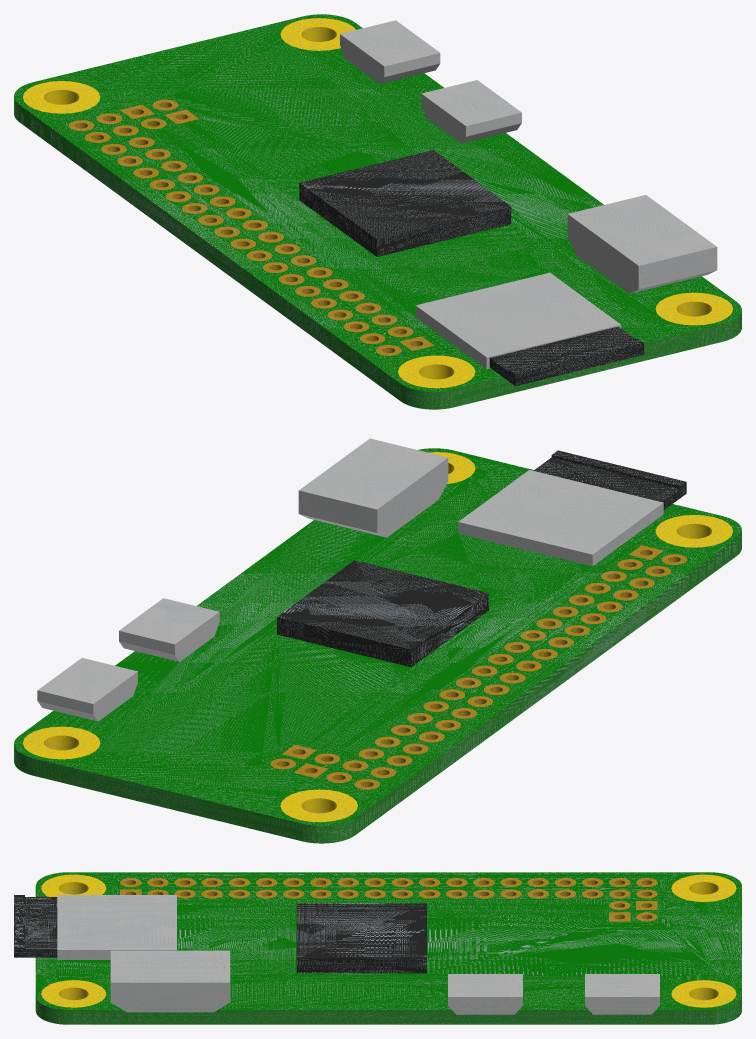
3 views of the same model, one above another, from view 1: azimuth 30°, elevation 25°; view 2: azimuth 150°, elevation 25°; view 3: azimuth 270°, elevation 25° (orthographic). The views are drawn at different scales.
Visible parts, largest first — view 1: SketchUp (×11), Micro_USB (×2); view 2: SketchUp (×11), Micro_USB (×2); view 3: SketchUp (×15), Micro_USB (×2).
Part boxes in pixels (x1,y1,x2,y2): SketchUp (×11): (14, 14, 741, 409); Micro_USB (×2): (340, 20, 521, 143); SketchUp (×11): (14, 438, 741, 843); Micro_USB (×2): (37, 598, 219, 721); SketchUp (×15): (14, 872, 741, 1024); Micro_USB (×2): (448, 974, 659, 1014).
Size of the model in its own units: 1.22 by 2.64 by 0.1772.
